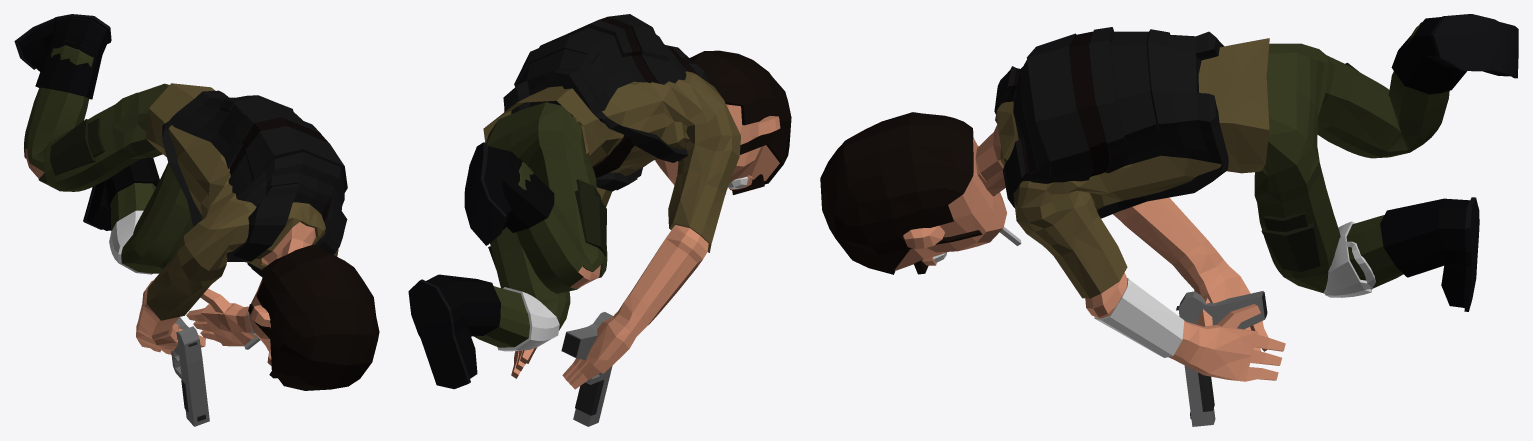
Rendered from frame_0057.obj.
3 views of the same model, side by side, from view 1: azimuth 30°, elevation 25°; view 2: azimuth 150°, elevation 25°; view 3: azimuth 270°, elevation 25° (orthographic). The views are drawn at different scales.
Parts seen in each view (by area): view 1: Body, Gun; view 2: Body, Gun; view 3: Body, Gun.
Part boxes in pixels (x1=…): Body: x1=14, y1=14, x2=379, y2=390; Gun: x1=171, y1=317, x2=209, y2=426; Body: x1=408, y1=14, x2=791, y2=389; Gun: x1=561, y1=312, x2=612, y2=426; Body: x1=820, y1=14, x2=1518, y2=381; Gun: x1=1176, y1=291, x2=1267, y2=426.
Size of the model in its own units: 1.27 by 2.28 by 3.55.
